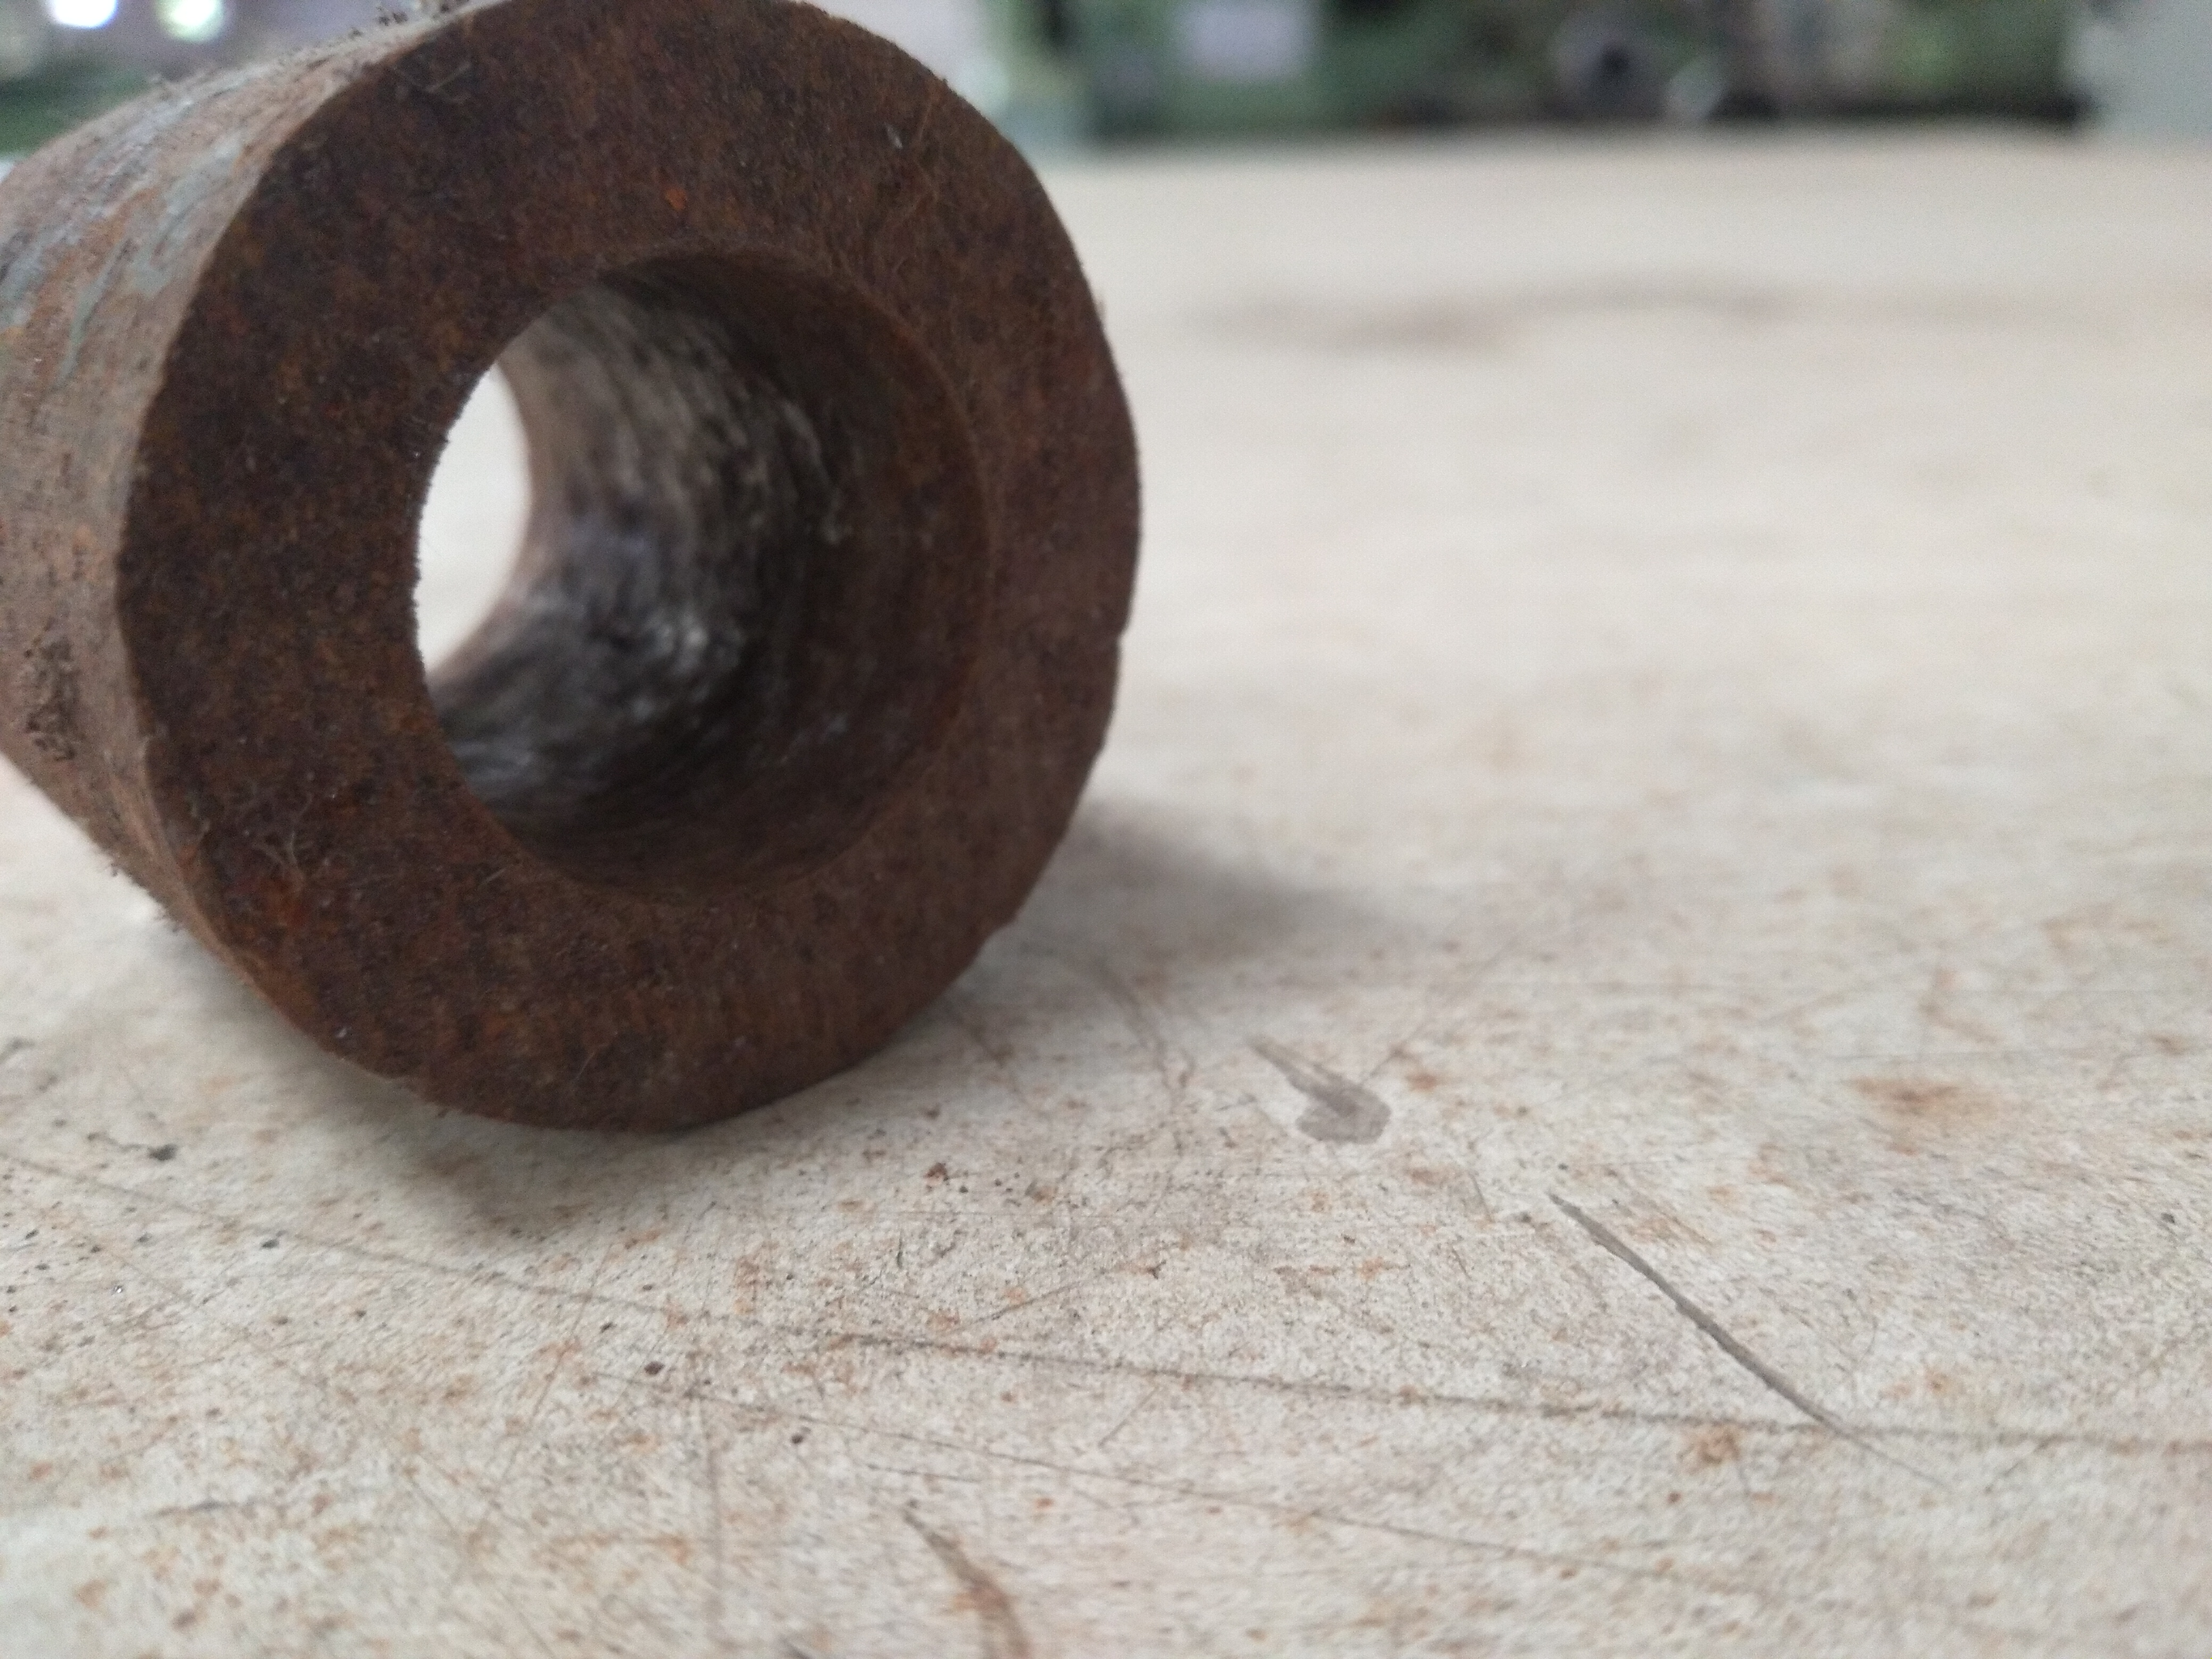No thread: (406, 214, 1045, 929)
